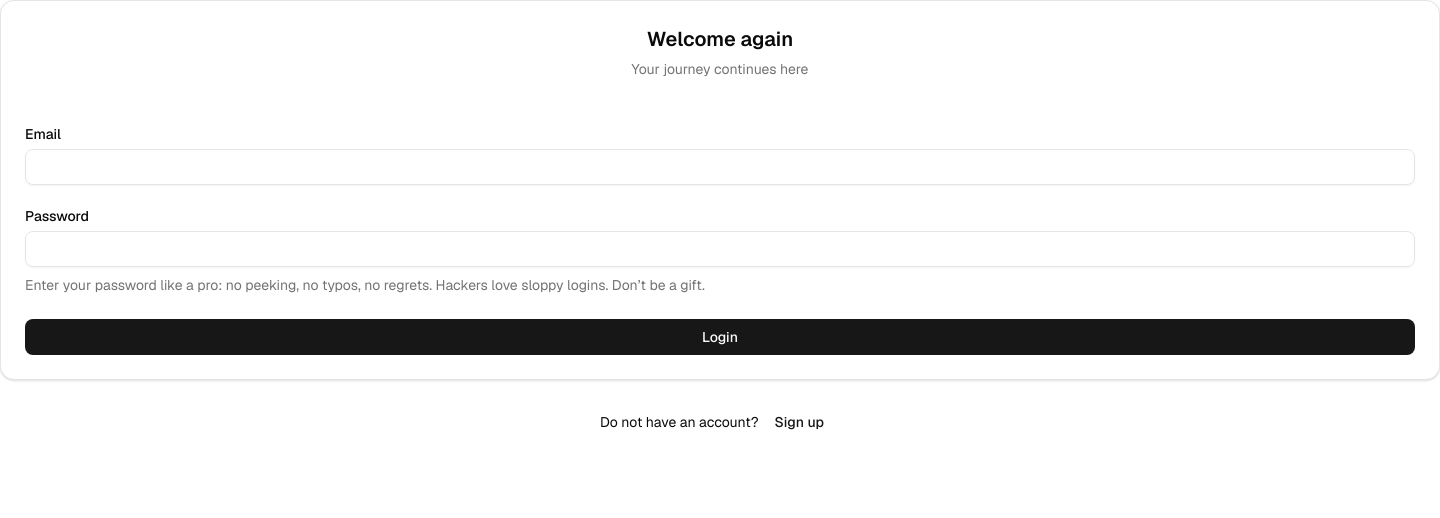
Test: AuthForm › shows error alert when email already in use
The image size is (1440, 518).
Click the button "Sign up" at (799, 422), box 758,404 -> 840,440
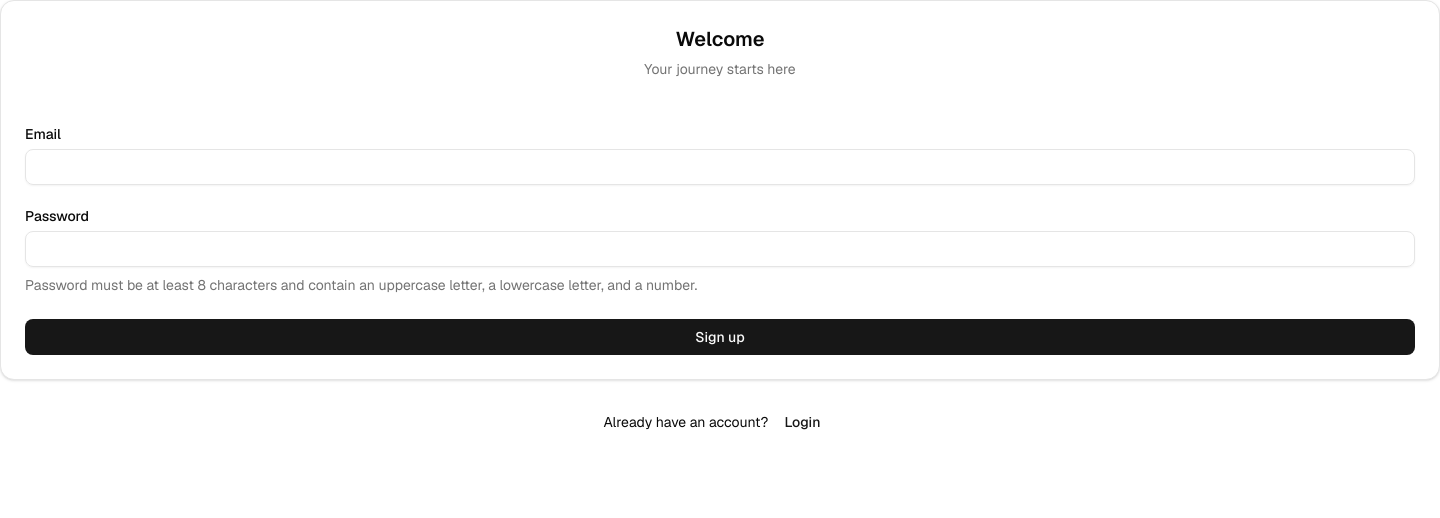
Type "existing@example.com" into the field labelled "Email" at (720, 167), box 25,149 -> 1415,185
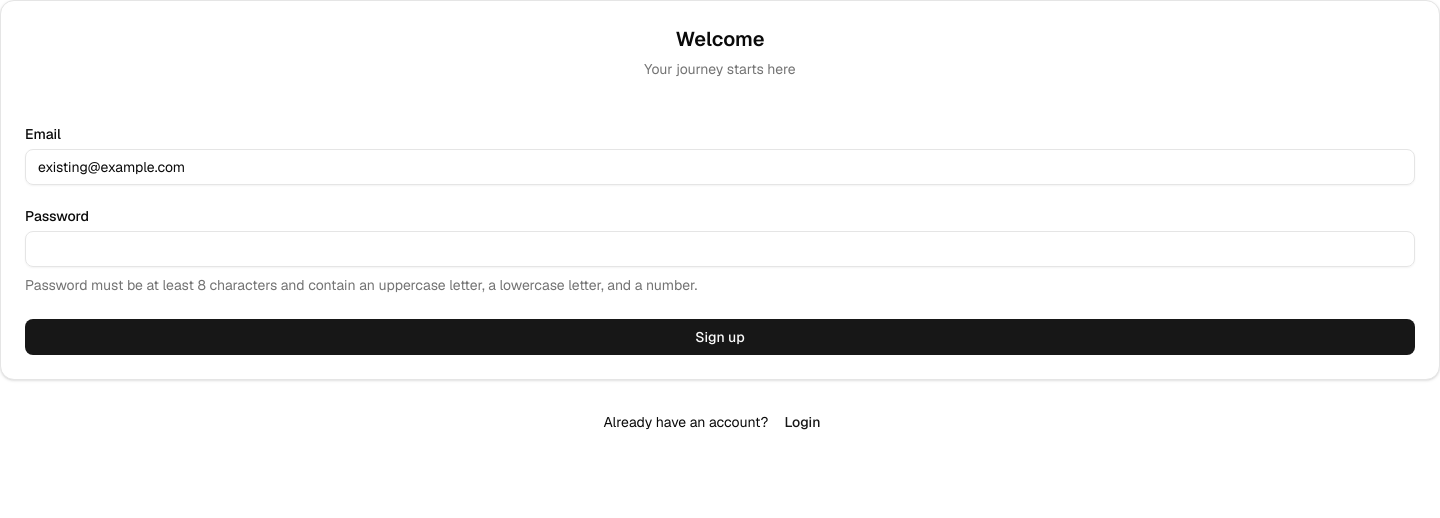
Type "ValidPass1" into the password field labelled "Password" at (720, 249), box 25,231 -> 1415,267
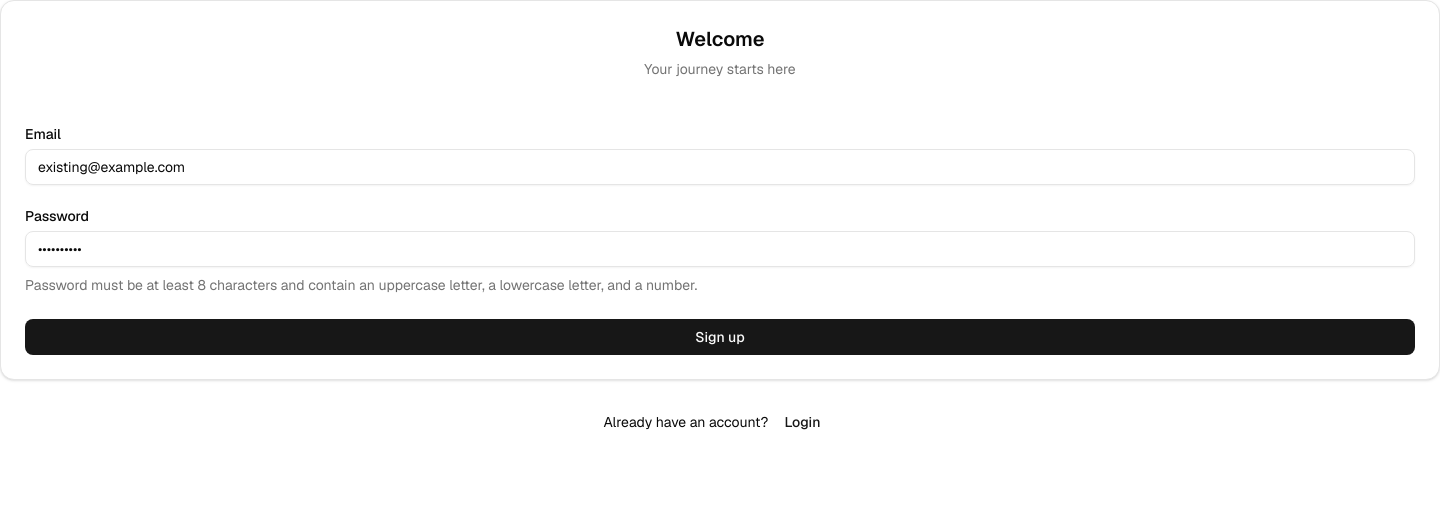
Click the button "Sign up" at (720, 337), box 25,319 -> 1415,355
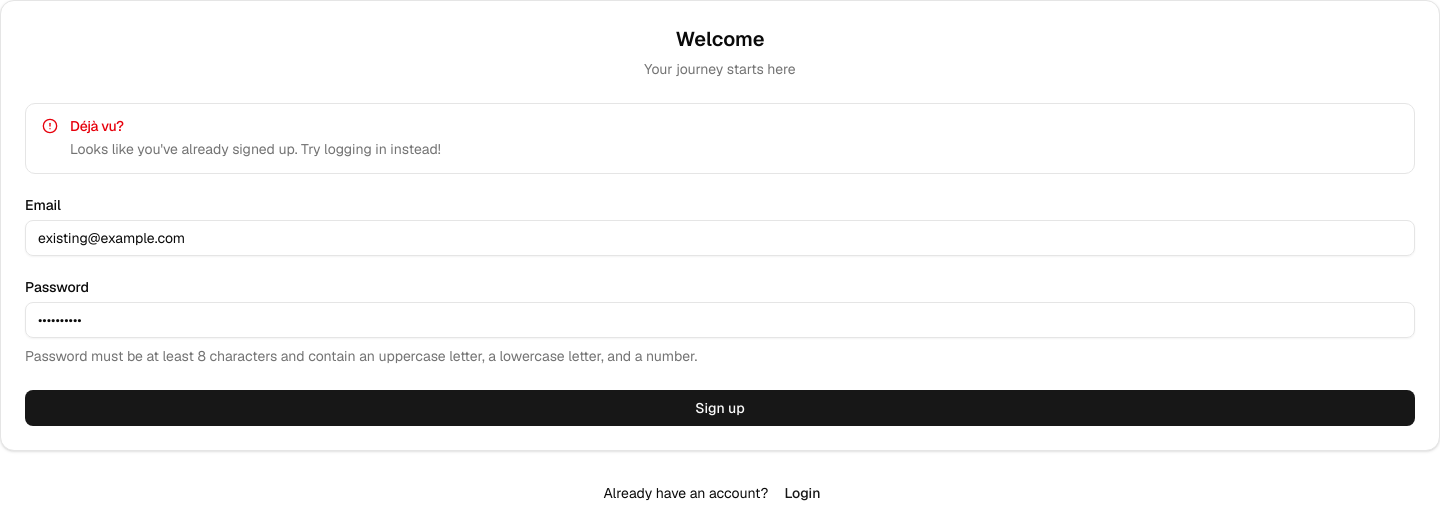
Expected: the heading "Déjà vu?" is shown, 70,117 -> 124,135
Expected: the text "Looks like you've already signed up. Try logging in instead!" is shown, 70,138 -> 441,161
